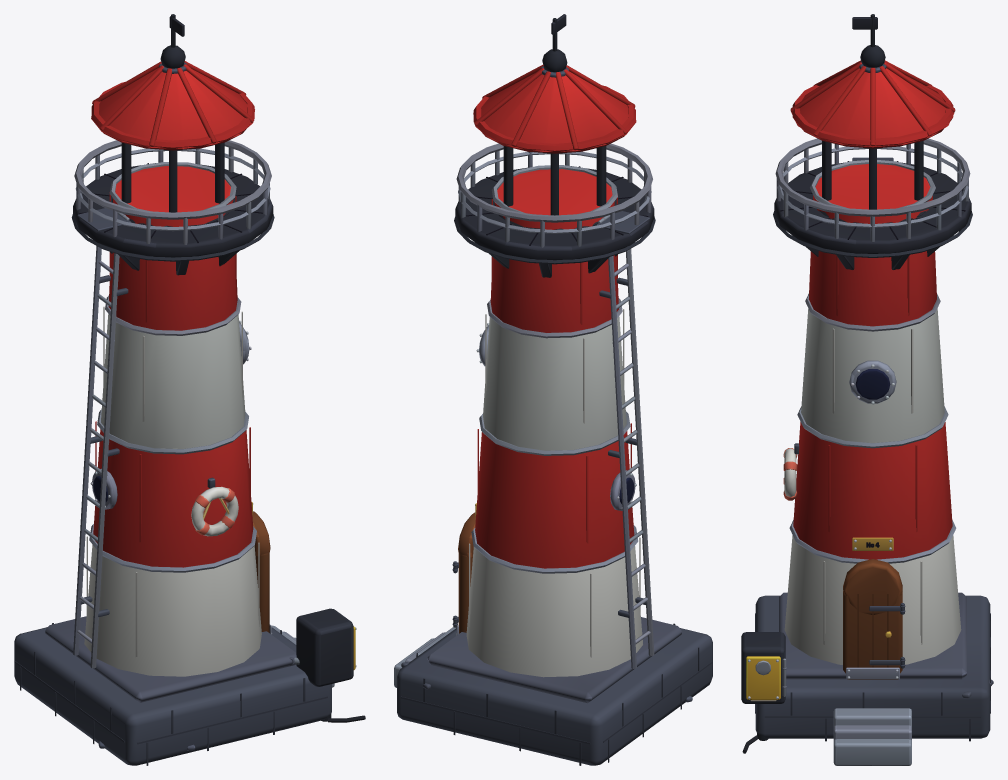
File: SM_Station_Lighthouse.fbx
3 renders of one model, left to right at view 1: azimuth 30°, elevation 25°; view 2: azimuth 150°, elevation 25°; view 3: azimuth 270°, elevation 25°, orthographic.
Visible parts, largest first — view 1: SM_Station_Lighthouse; view 2: SM_Station_Lighthouse; view 3: SM_Station_Lighthouse.
Part boxes in pixels (x1=…): SM_Station_Lighthouse: x1=14, y1=14, x2=365, y2=765; SM_Station_Lighthouse: x1=394, y1=14, x2=712, y2=765; SM_Station_Lighthouse: x1=741, y1=14, x2=993, y2=765.
Size of the model in its own units: 181 by 482 by 161.
